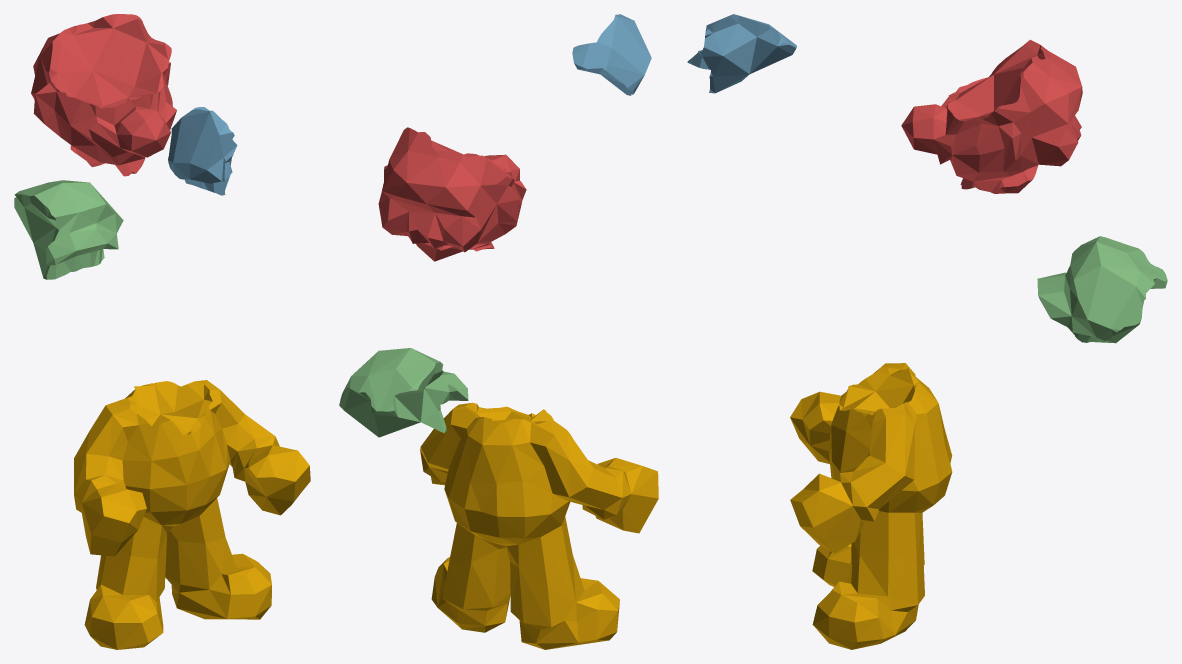
Rendered from fractured_55_4pcs_transformed.glb.
The picture shows the model from 3 angles, left to right: view 1: azimuth 30°, elevation 25°; view 2: azimuth 150°, elevation 25°; view 3: azimuth 270°, elevation 25°; orthographic projection. The views are drawn at different scales.
Visible parts, largest first — view 1: piece_0.obj, piece_1.obj, piece_3.obj, piece_2.obj; view 2: piece_0.obj, piece_1.obj, piece_3.obj, piece_2.obj; view 3: piece_0.obj, piece_1.obj, piece_3.obj, piece_2.obj.
Part boxes in pixels (x1=…): piece_0.obj: x1=74, y1=380, x2=310, y2=649; piece_1.obj: x1=31, y1=14, x2=176, y2=176; piece_3.obj: x1=14, y1=180, x2=123, y2=279; piece_2.obj: x1=168, y1=107, x2=237, y2=195; piece_0.obj: x1=420, y1=402, x2=658, y2=649; piece_1.obj: x1=378, y1=127, x2=526, y2=261; piece_3.obj: x1=339, y1=348, x2=468, y2=437; piece_2.obj: x1=572, y1=14, x2=651, y2=95; piece_0.obj: x1=790, y1=363, x2=952, y2=649; piece_1.obj: x1=901, y1=39, x2=1082, y2=193; piece_3.obj: x1=1037, y1=236, x2=1167, y2=343; piece_2.obj: x1=687, y1=14, x2=796, y2=93.
Bounding box in the file's own units: 0.639 × 1.58 × 1.18.
